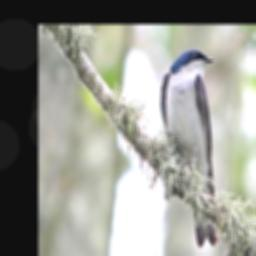Swallow: (159, 47, 222, 249)
